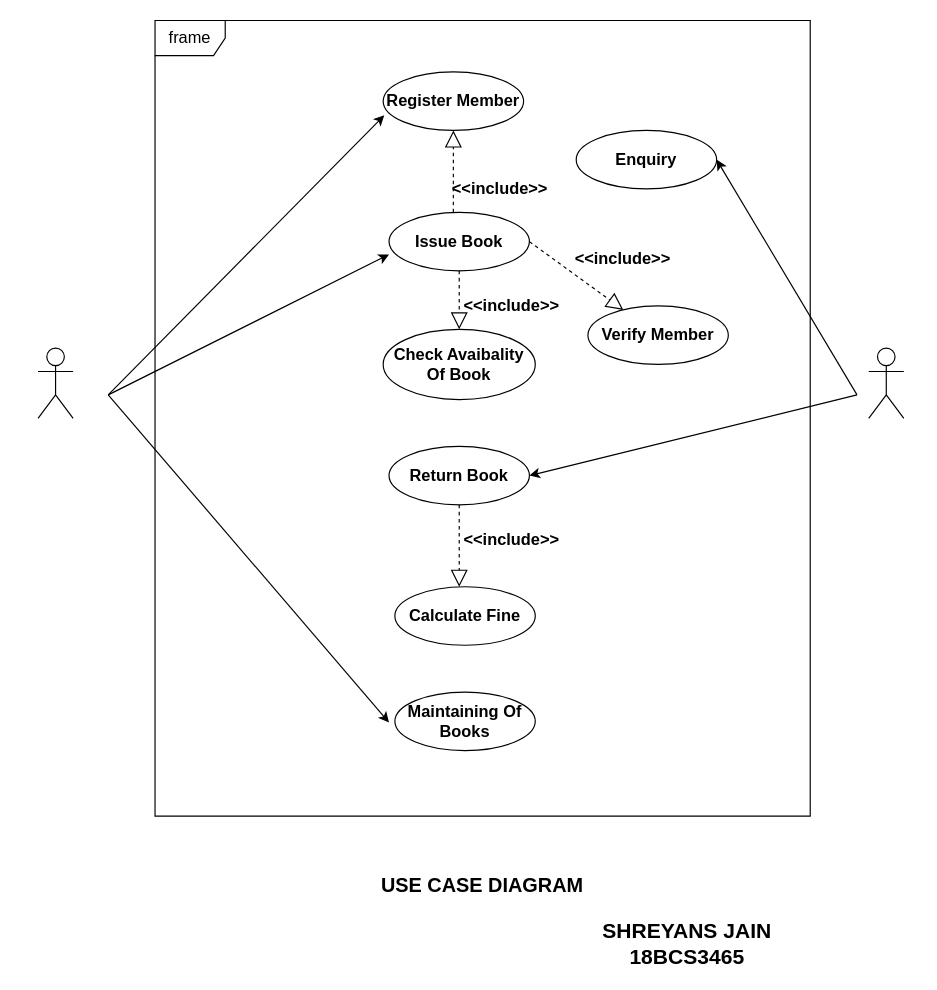
This 937x990 diagram has some shape labels left out. Each missing label, with the centre of its shape:
"Librarian" goes at point 55,382.
"Member" goes at point 886,382.
